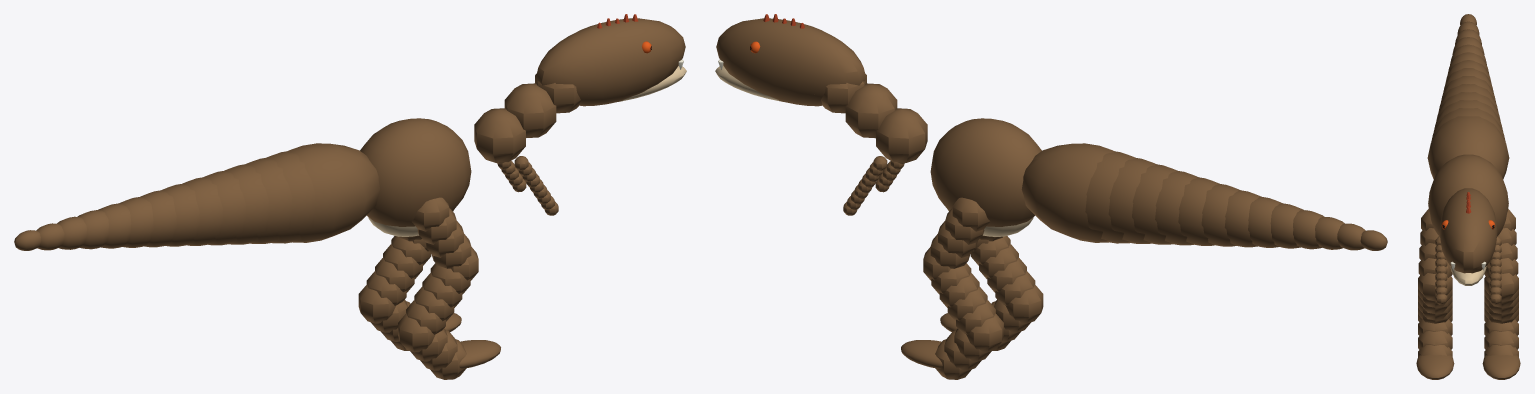
File: allosaurus.glb
3 views of the same model, side by side, from view 1: azimuth 30°, elevation 25°; view 2: azimuth 150°, elevation 25°; view 3: azimuth 270°, elevation 25° (orthographic). The views are drawn at different scales.
Visible parts, largest first — view 1: allosaurus; view 2: allosaurus; view 3: allosaurus.
Part boxes in pixels (x1,y1,x2,y2): allosaurus: [14, 14, 686, 379]; allosaurus: [715, 14, 1387, 379]; allosaurus: [1416, 14, 1520, 379].
Bounding box in the file's own units: 6.05 × 2.6 × 0.968.
